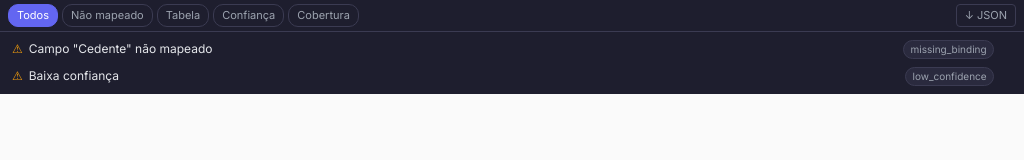
Test: ConsolePanel — Story 30.8: filtro, dismiss e exportação › AC2: filtro por low_confidence → só warnings low_confidence aparecem
The image size is (1024, 160).
Click the button with test id "console-filter-low_confidence": point(249, 15) [213,4,284,26]
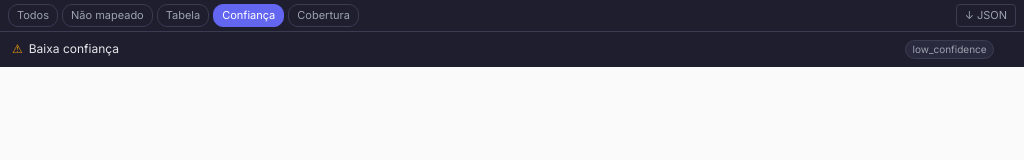
Expected: the list with test id "console-list" shows "Baixa confiança", [29,40,119,56]
Expected: the text with test id "console-list" no longer shows "Cedente"
